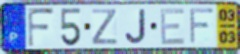5: (60, 7, 82, 48)
E: (159, 7, 187, 47)
F: (26, 7, 56, 49), (188, 7, 216, 46)
J: (123, 8, 147, 46)
Z: (91, 8, 120, 46)
